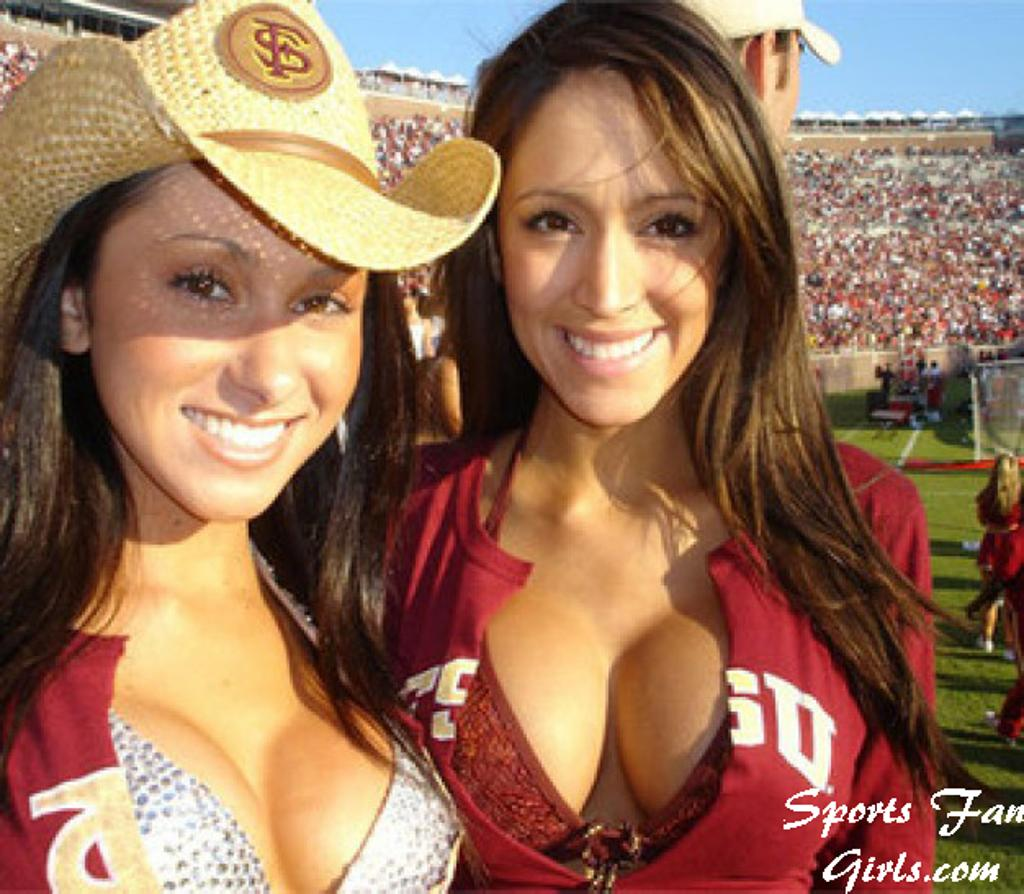face: (92, 168, 362, 520), (500, 84, 718, 428)
